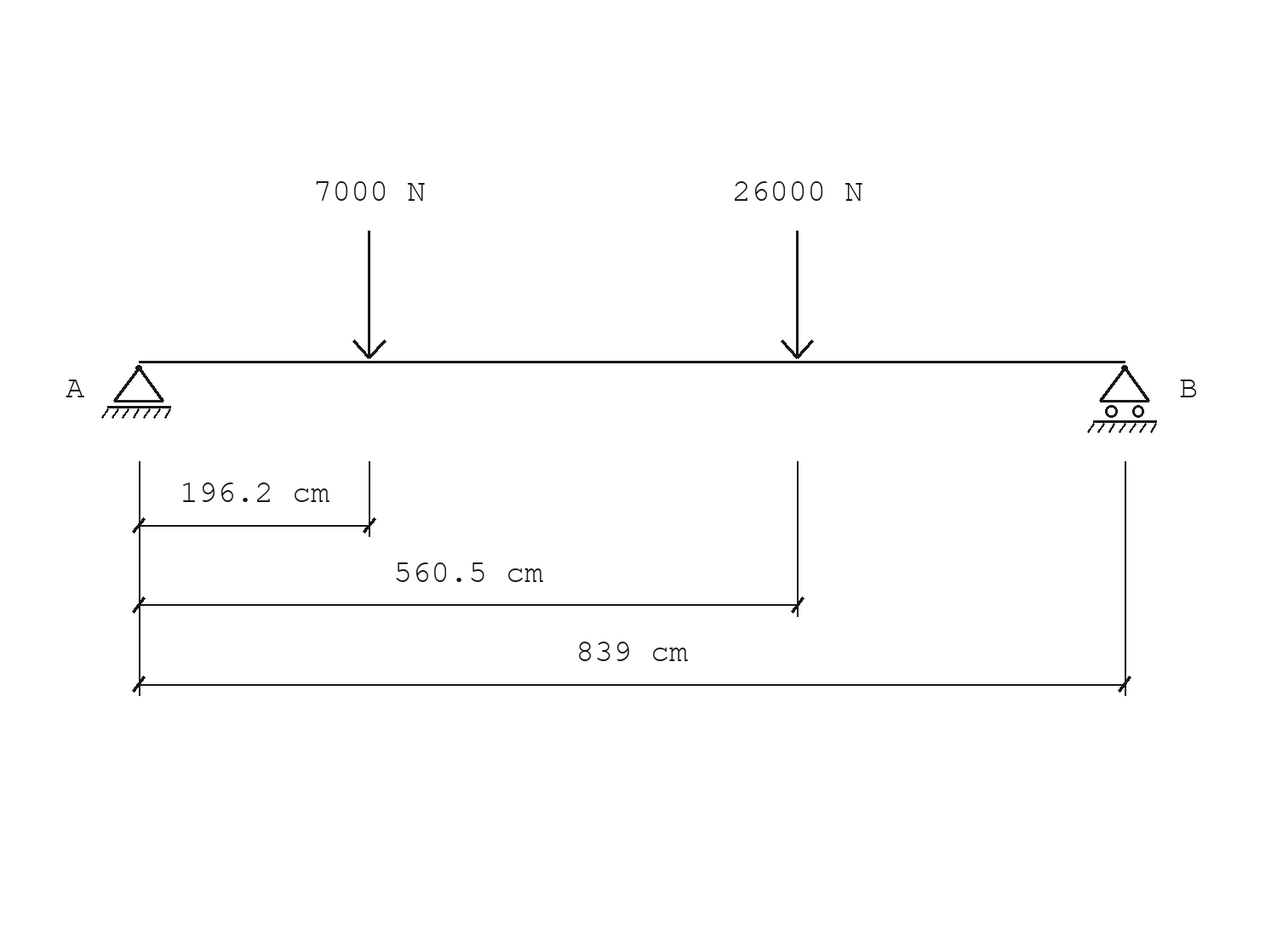pin_support: (101, 365, 171, 419)
point_load: (352, 231, 387, 359), (781, 231, 814, 359)
roller_support: (1087, 365, 1157, 433)
